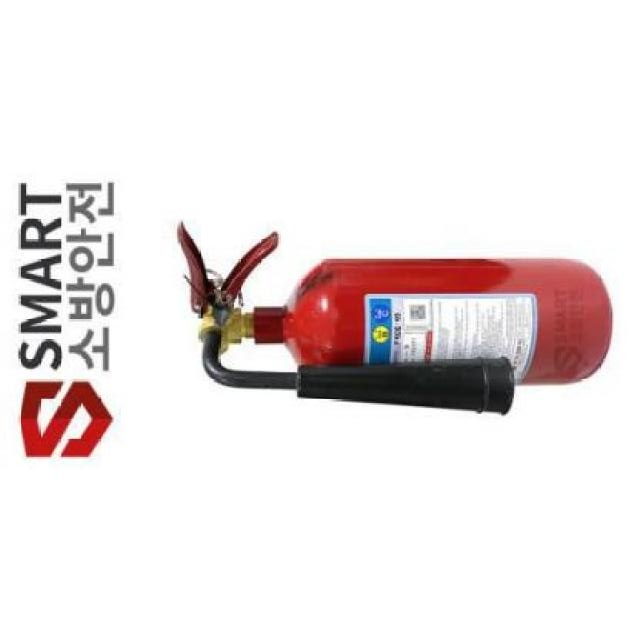fire extinguisher: (176, 219, 613, 418)
